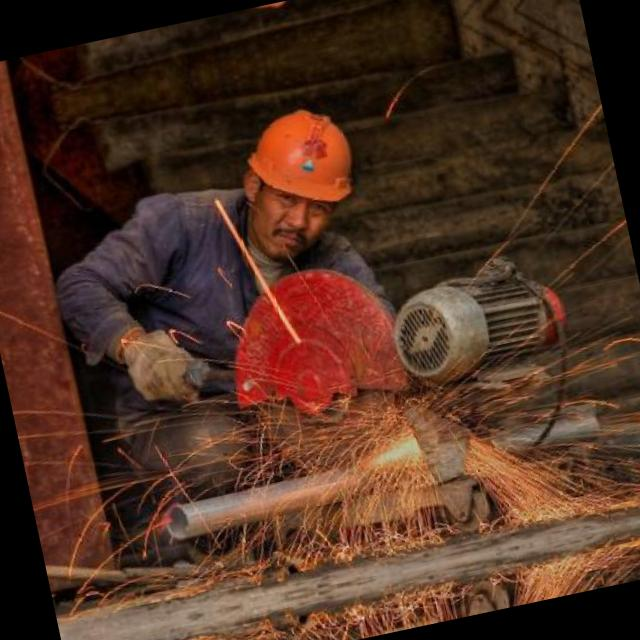helmet: (214, 85, 384, 269)
